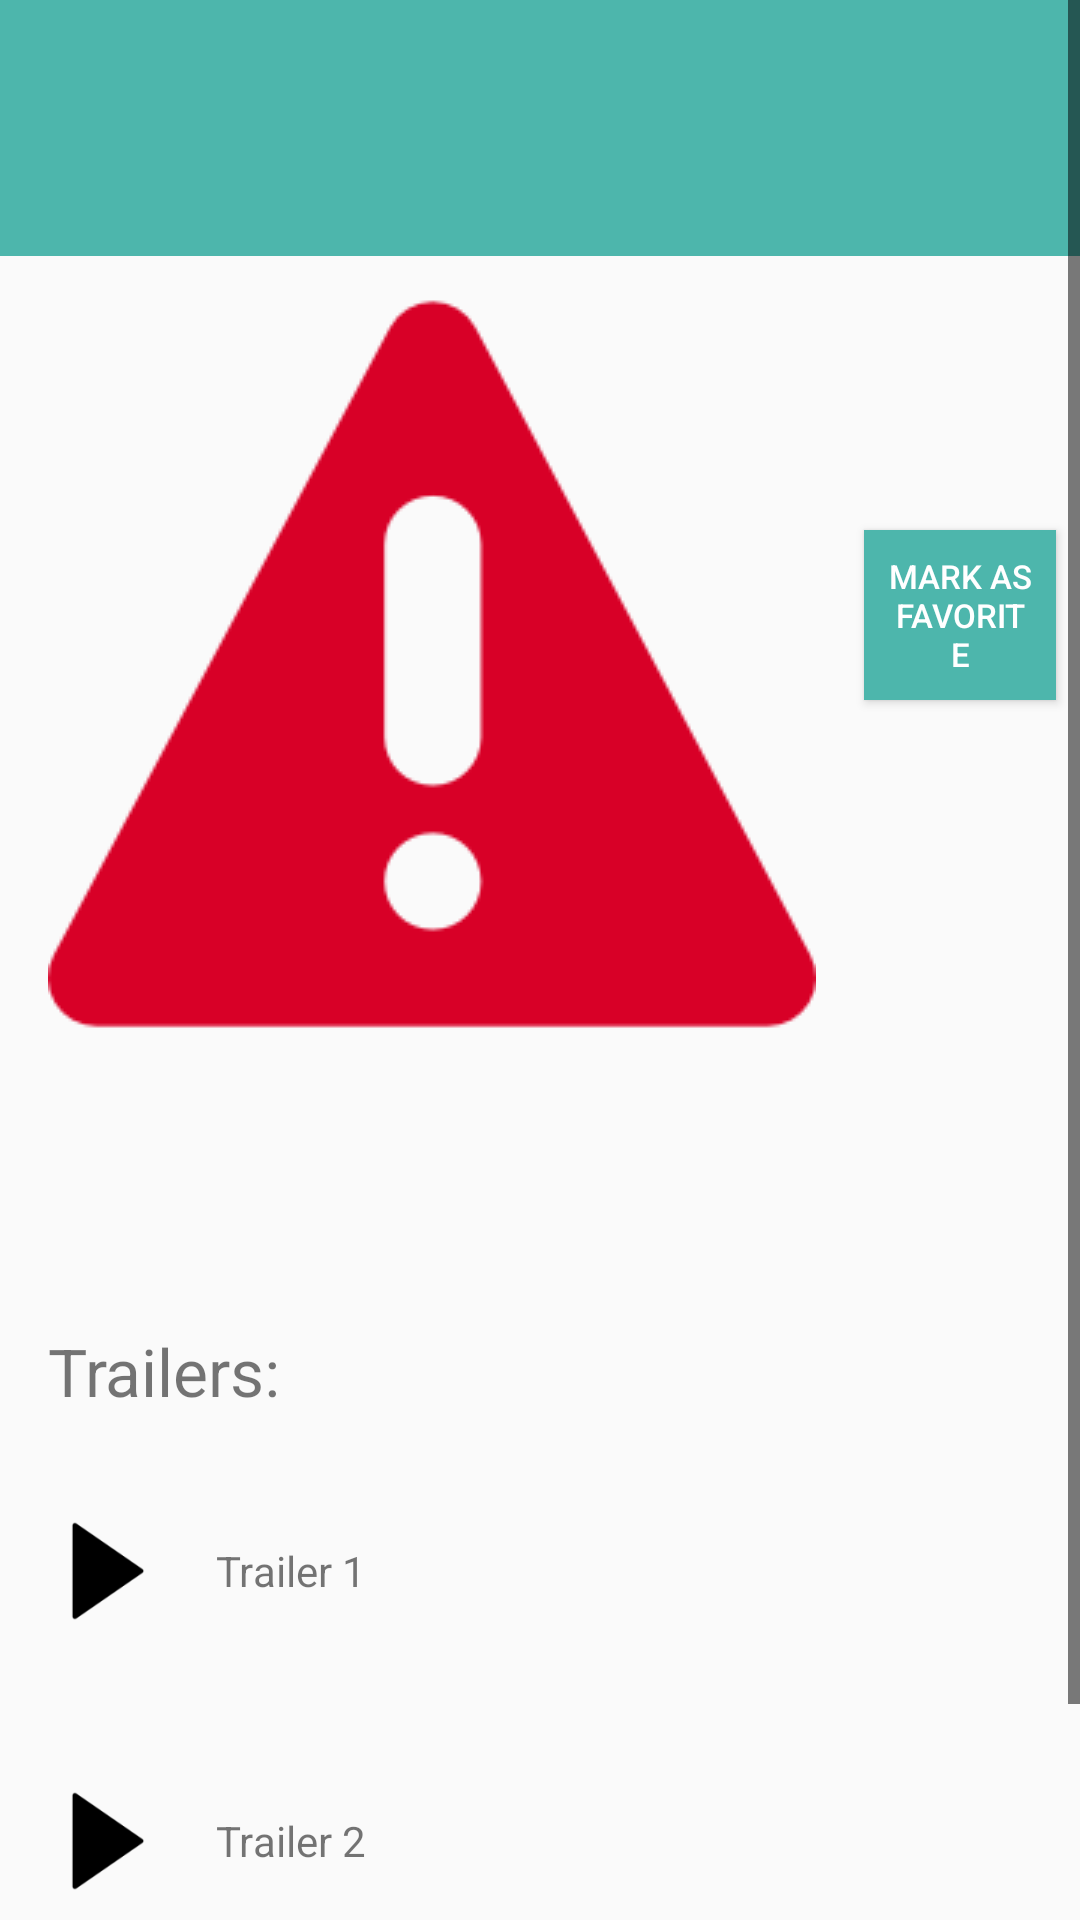

Screen size 1080 × 1920. Icon name, then its box in pixels as {"x1": x1, "y1": y1, "x2": x2, "y2": y2}:
play: {"x1": 72, "y1": 1522, "x2": 144, "y2": 1620}, {"x1": 72, "y1": 1792, "x2": 144, "y2": 1890}
